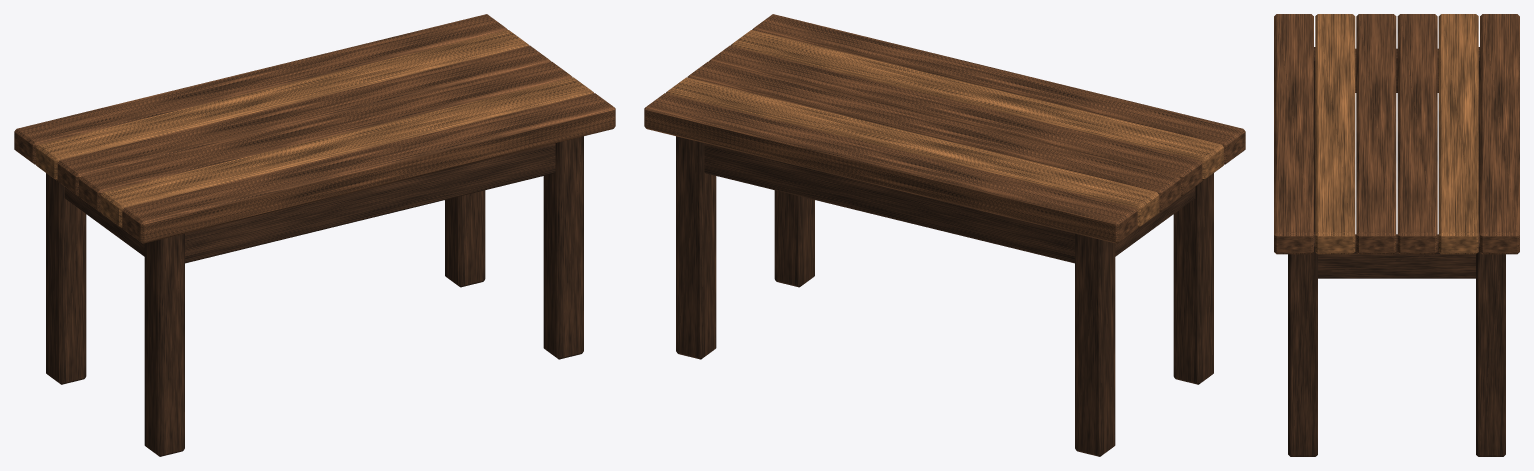
File: table_kitchen.glb
3 renders of one model, left to right at view 1: azimuth 30°, elevation 25°; view 2: azimuth 150°, elevation 25°; view 3: azimuth 270°, elevation 25°, orthographic. The views are drawn at different scales.
Visible parts, largest first — view 1: oak, oak_dark, oak_light; view 2: oak, oak_dark, oak_light; view 3: oak, oak_light, oak_dark.
Boxes of the visible parts, x1,y1,x2,y2 form: oak: (14,14,615,243); oak_dark: (46,136,583,456); oak_light: (36,30,593,227); oak: (644,14,1245,243); oak_dark: (676,136,1213,456); oak_light: (666,30,1223,227); oak: (1274,14,1519,254); oak_light: (1315,14,1478,254); oak_dark: (1288,47,1505,456).
Size of the model in its own units: 1.65 by 0.82 by 0.776.
Materials: 3 (3 with a texture image).
